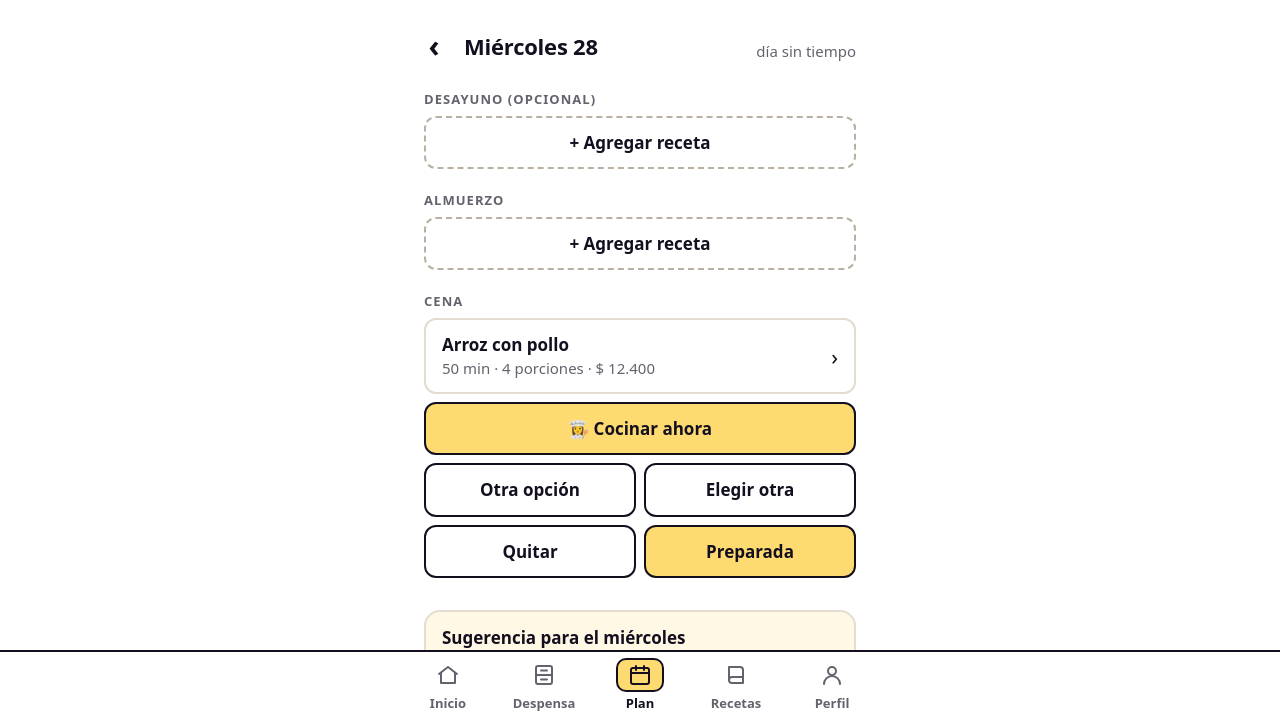
Test case: Plan semanal (pantallas 27 a 33) › en el día se marca una comida como preparada después de confirmar
The image size is (1280, 720).
Expected: the text "día sin tiempo" is shown, [756, 40, 856, 62]
Click the button "Preparada" at (750, 552), box [644, 525, 856, 578]
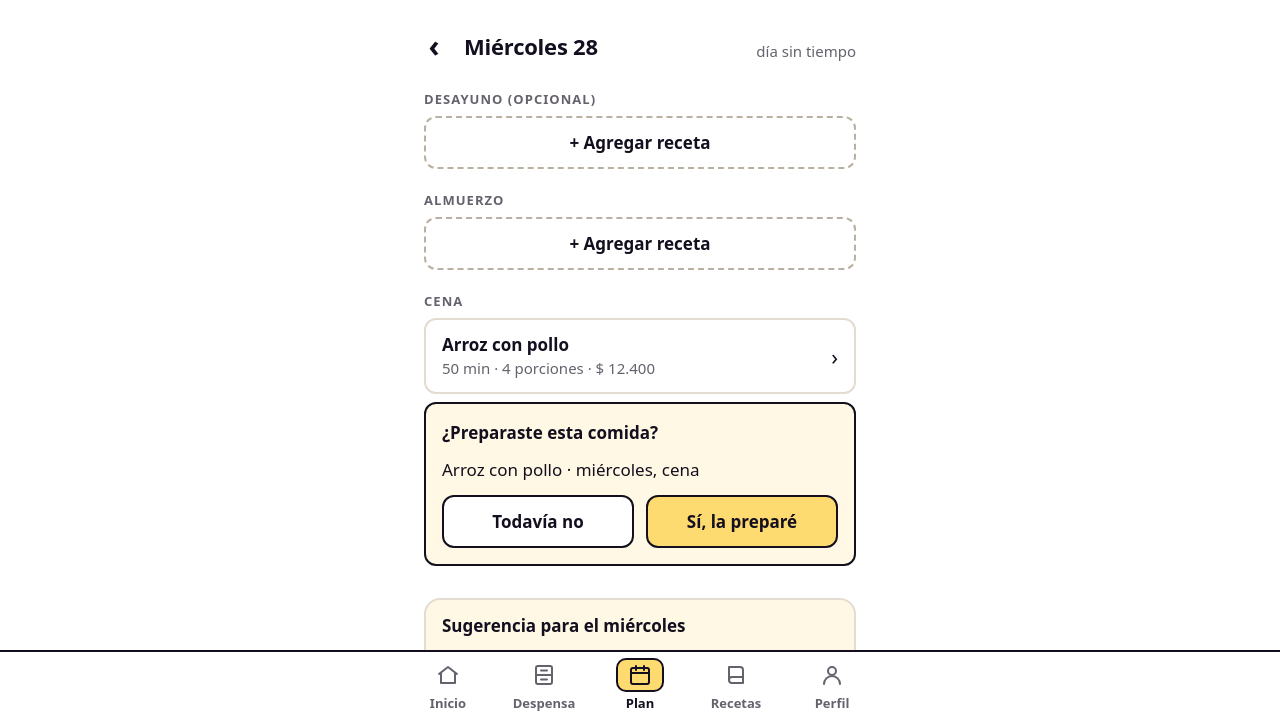
Result: the text "¿Preparaste esta comida?" is shown at [442, 421, 658, 444]
Click the button "Sí, la preparé" at (742, 522), box [646, 495, 838, 548]
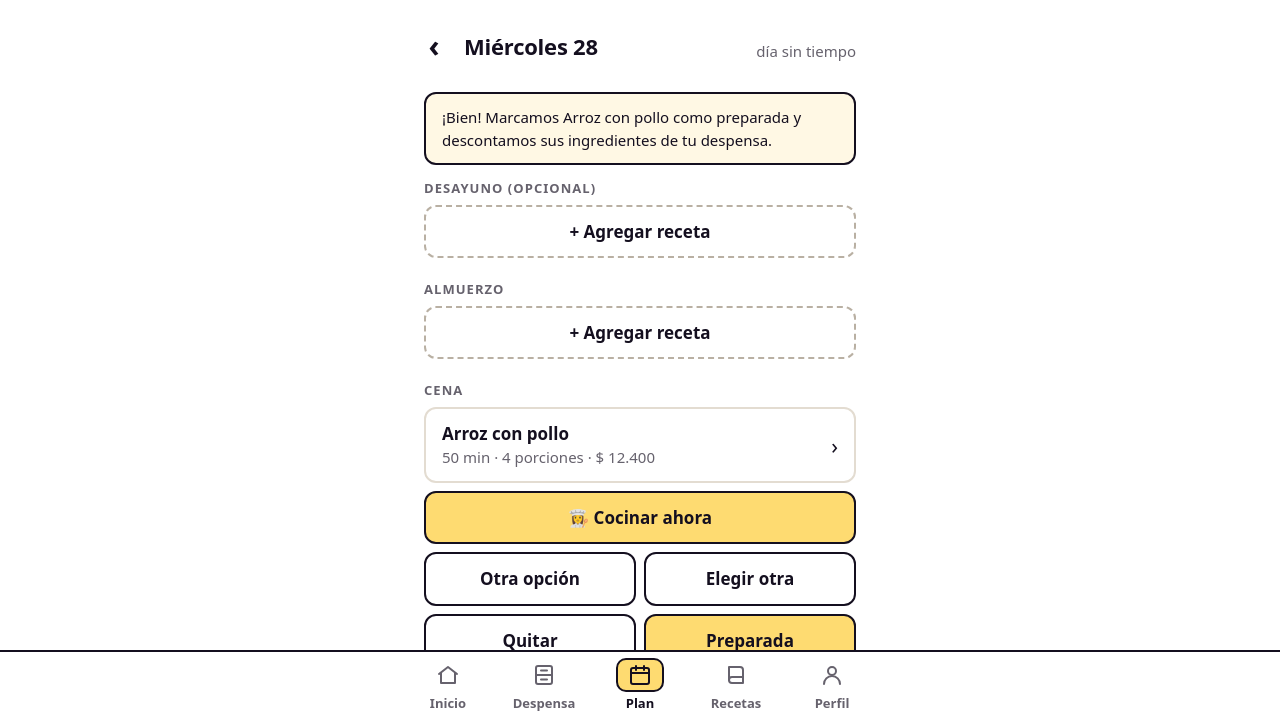
Result: the text "¡Bien! Marcamos Arroz con pollo como preparada y descontamos sus ingredientes de tu despensa." is shown at [442, 107, 801, 150]
